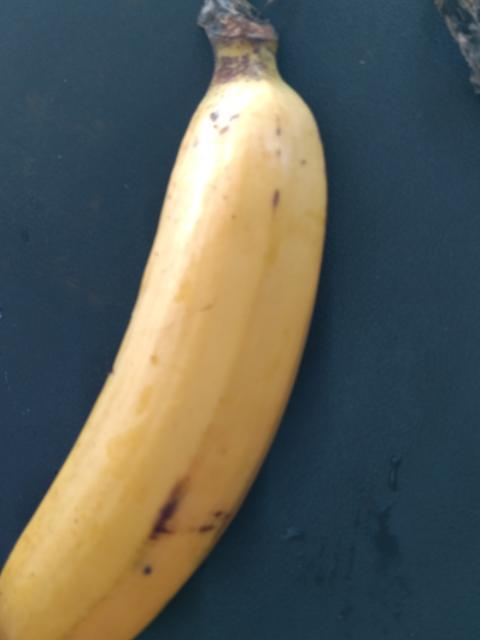freshripe: (0, 70, 334, 639)
